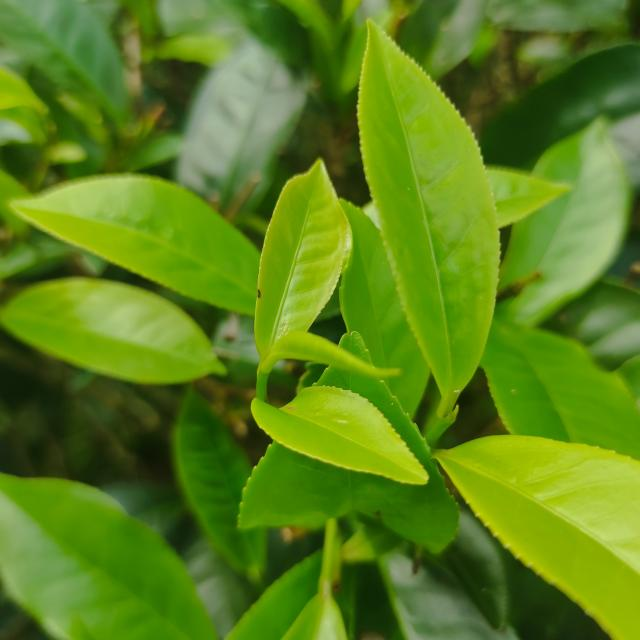unopened_leaf: (256, 326, 406, 386)
